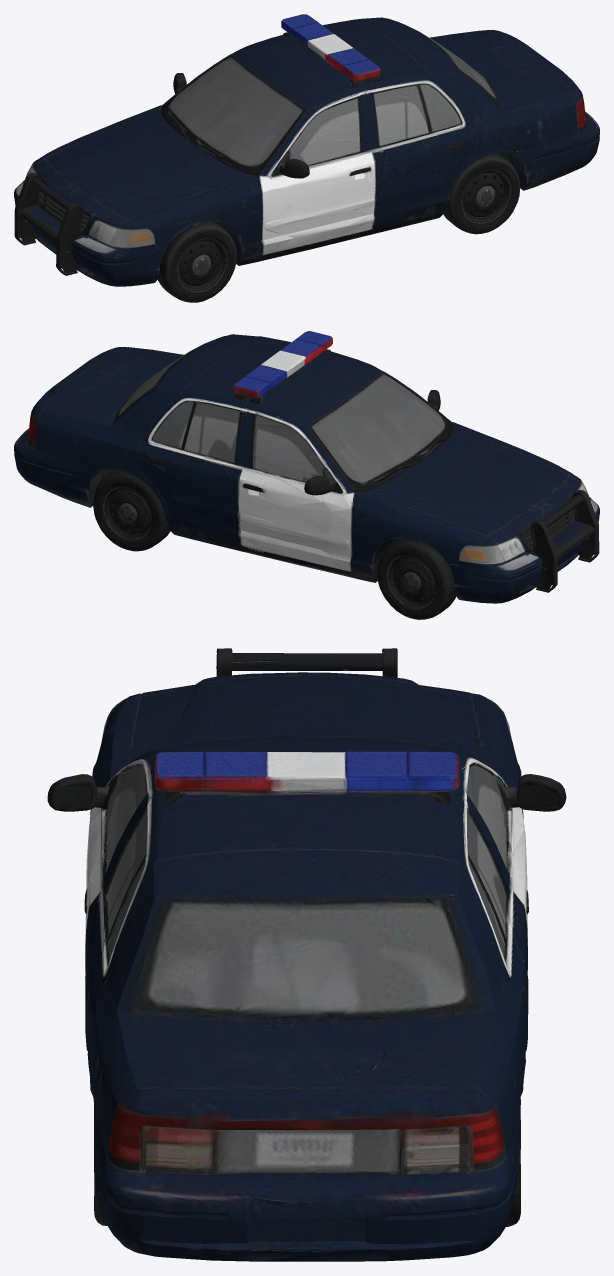
File: car_cruiser.glb
3 views of the same model, one above another, from view 1: azimuth 30°, elevation 25°; view 2: azimuth 150°, elevation 25°; view 3: azimuth 270°, elevation 25° (orthographic). The views are drawn at different scales.
Visible parts, largest first — view 1: output_unwrapped; view 2: output_unwrapped; view 3: output_unwrapped.
Boxes of the visible parts, x1=… form: output_unwrapped: x1=14, y1=14, x2=599, y2=302; output_unwrapped: x1=14, y1=331, x2=599, y2=619; output_unwrapped: x1=47, y1=648, x2=566, y2=1261.
Bounding box in the file's own units: 1.9 × 0.6135 × 0.8107.
Materials: 1 (1 with a texture image).
